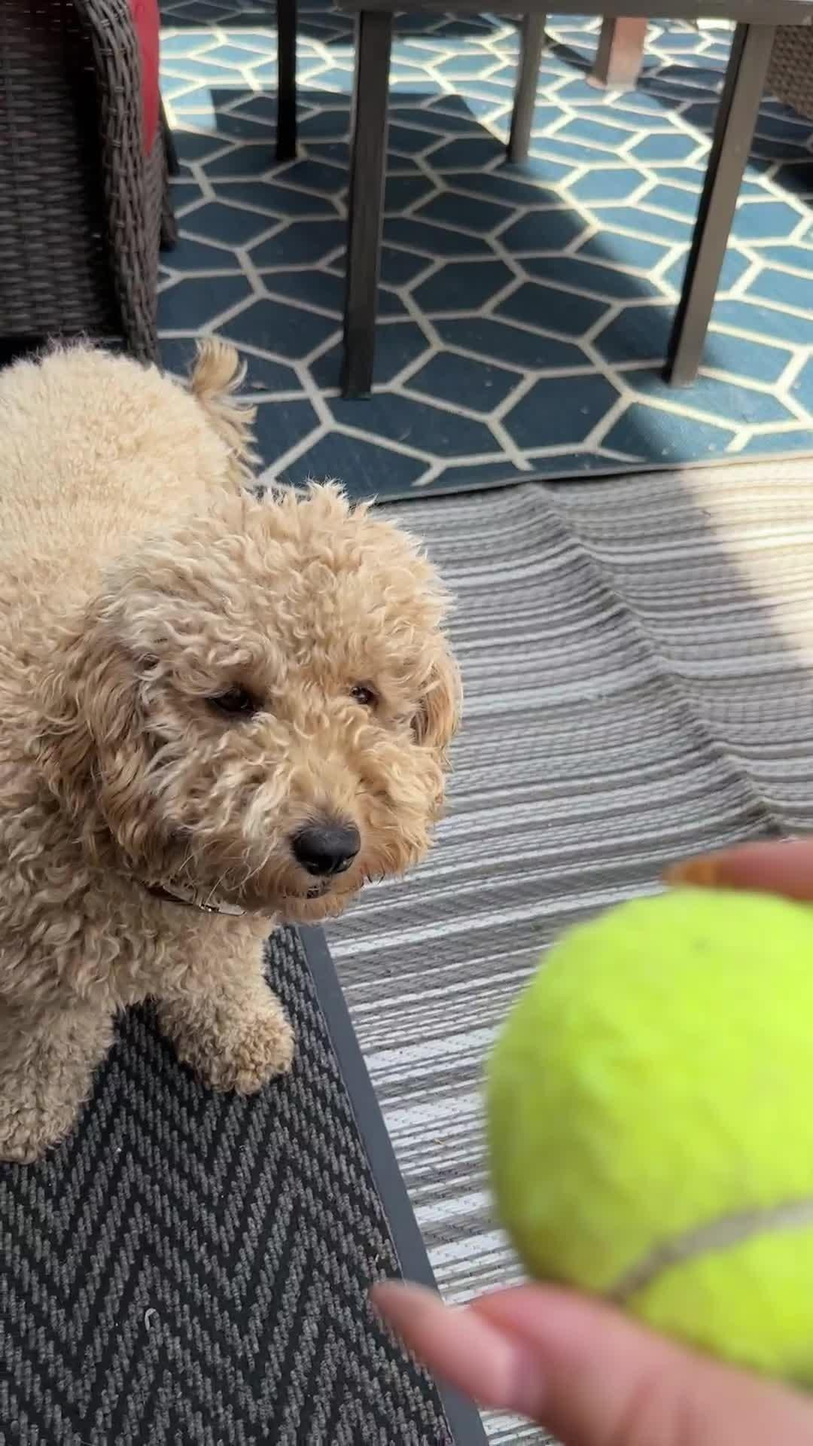adult_dog: (0, 338, 461, 1165)
